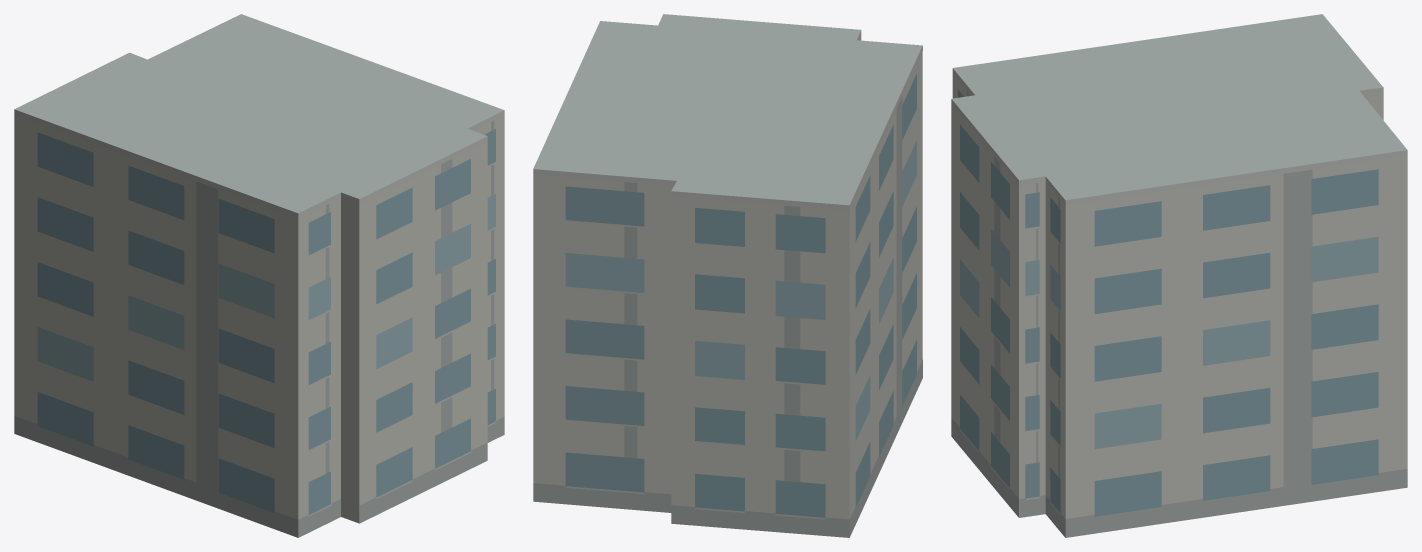
The model's file is survey-upis-32749295.glb.
3 renders of one model, left to right at view 1: azimuth 30°, elevation 25°; view 2: azimuth 150°, elevation 25°; view 3: azimuth 270°, elevation 25°, orthographic. The views are drawn at different scales.
Visible parts, largest first — view 1: survey-upis-32749295.tmp; view 2: survey-upis-32749295.tmp; view 3: survey-upis-32749295.tmp.
Part boxes in pixels (left/top/right/bottom): survey-upis-32749295.tmp: left=14, top=14, right=504, bottom=537; survey-upis-32749295.tmp: left=533, top=14, right=922, bottom=537; survey-upis-32749295.tmp: left=951, top=14, right=1407, bottom=537.
Size of the model in its own units: 17.4 by 14.7 by 18.01.
